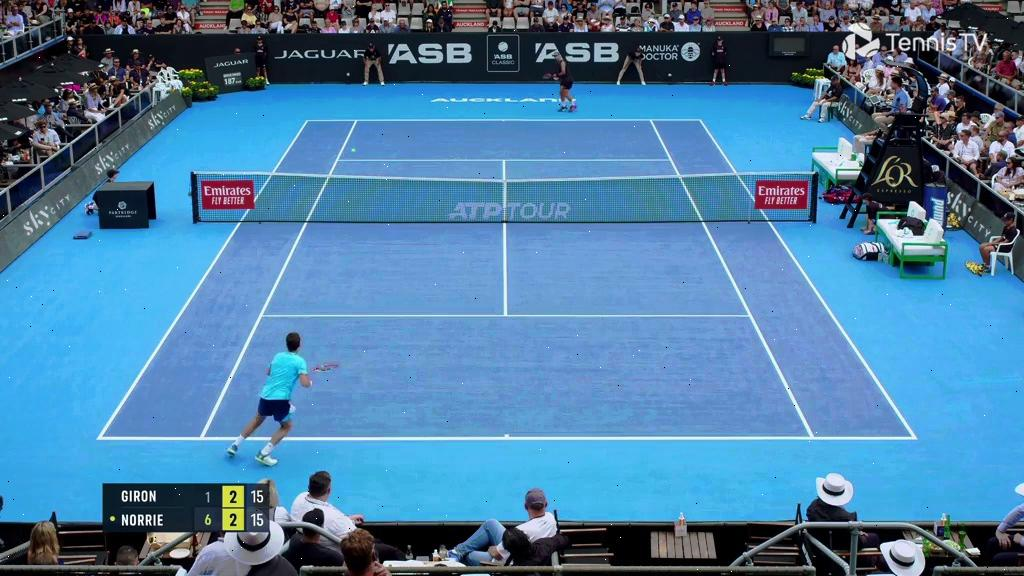tennis-court: (97, 119, 918, 440)
